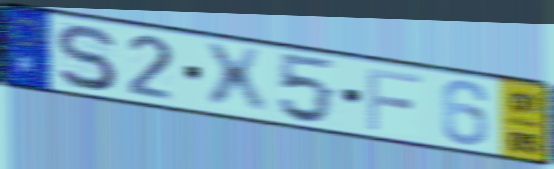2: (125, 34, 177, 104)
5: (274, 49, 340, 125)
6: (439, 79, 491, 147)
F: (364, 65, 426, 133)
S: (52, 22, 120, 93)
X: (199, 40, 273, 117)
